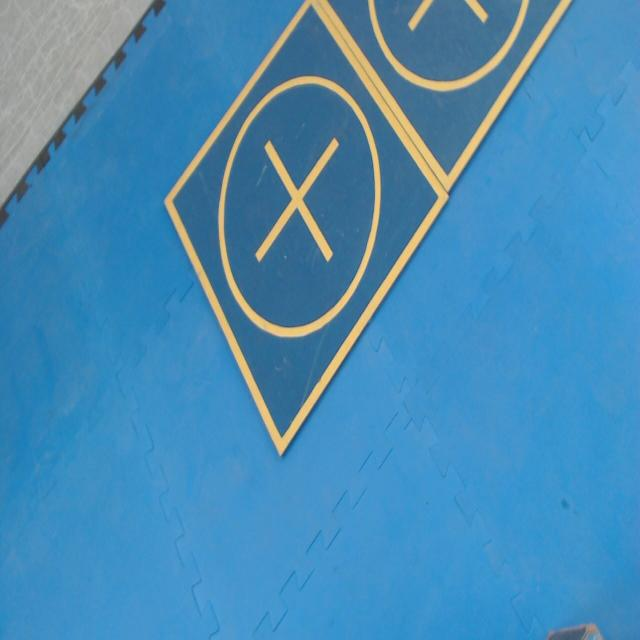base_pouso: (164, 0, 449, 461), (314, 0, 576, 197)
